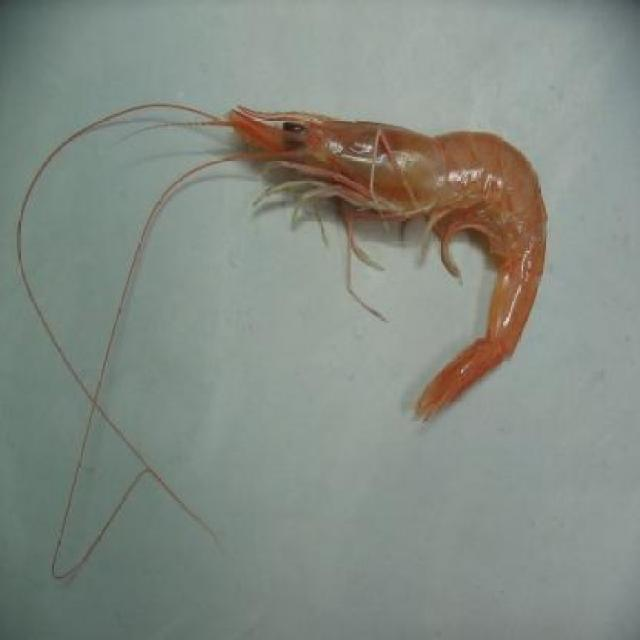shrimp: (205, 82, 559, 437)
